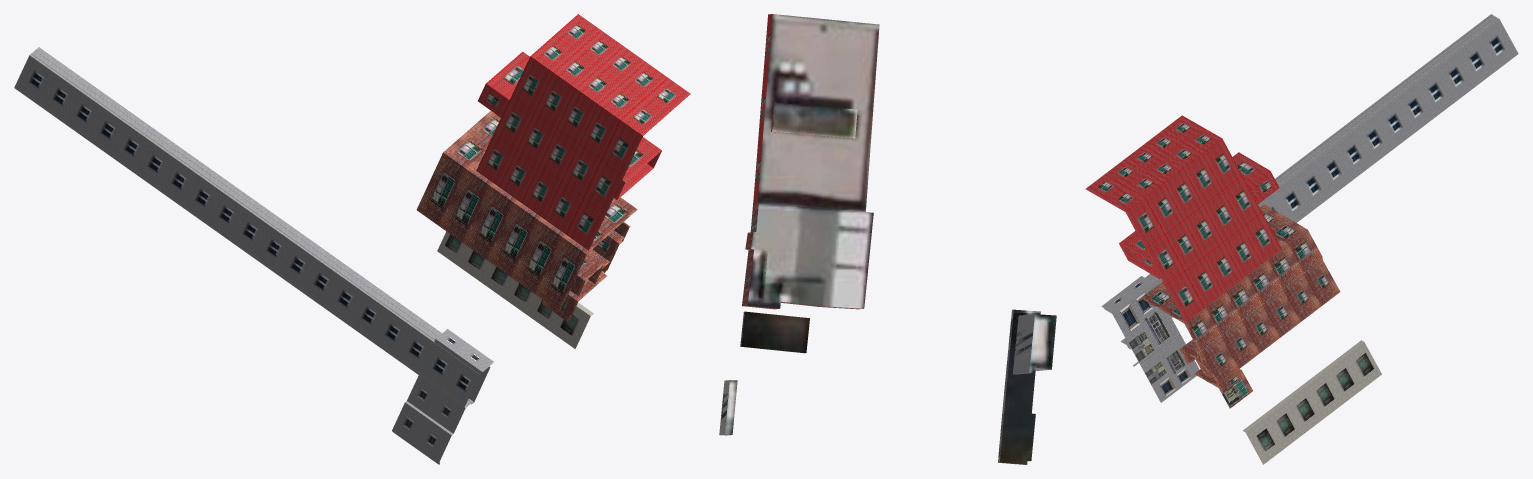
3 renders of one model, left to right at view 1: azimuth 30°, elevation 25°; view 2: azimuth 150°, elevation 25°; view 3: azimuth 270°, elevation 25°, orthographic. The views are drawn at different scales.
Bounding box in the file's own units: 60.91 × 47.62 × 55.58.
Materials: 35 (35 with a texture image).
